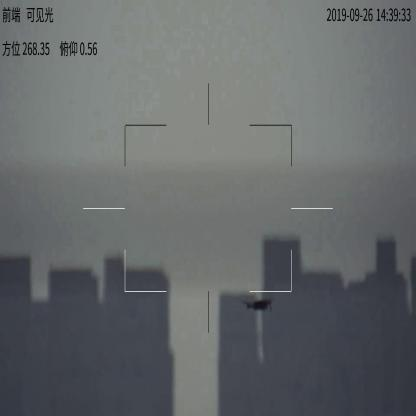uav: (242, 294, 274, 314)
